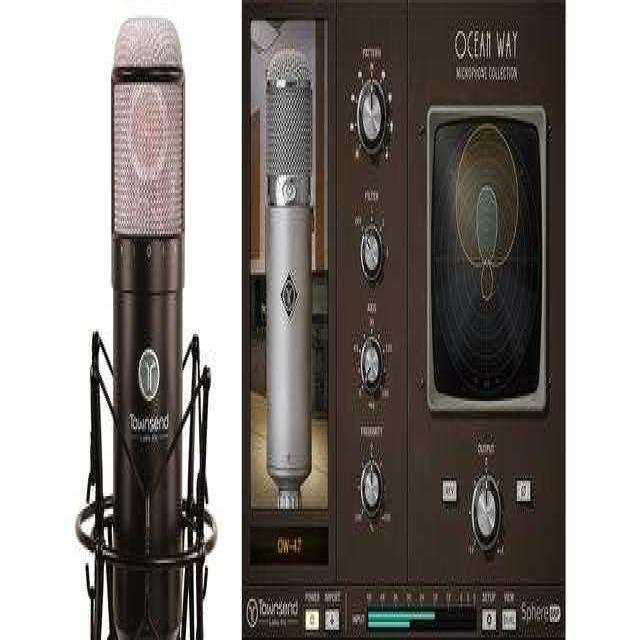microphone: (110, 13, 185, 640), (265, 50, 313, 511)
